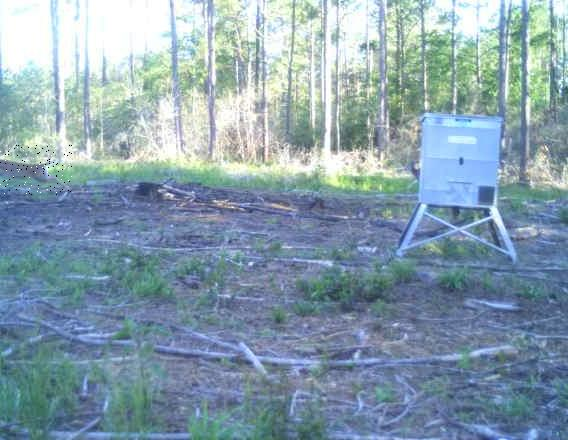Deer: (0, 143, 72, 195)
